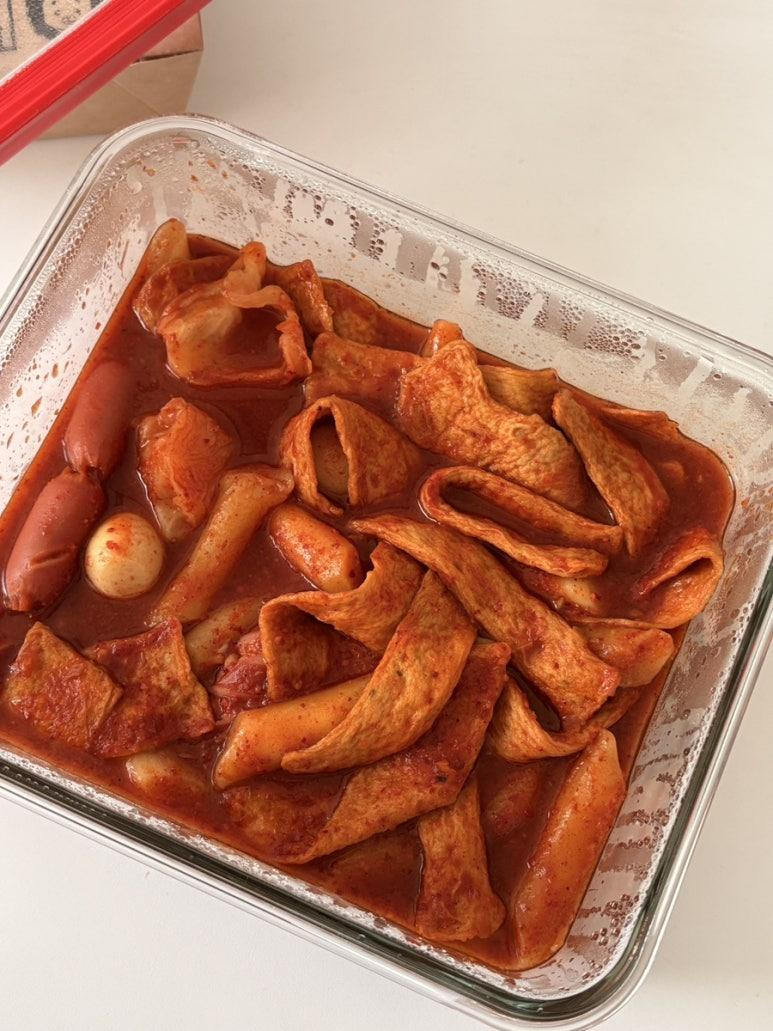Lunch Box: (0, 116, 772, 1030)
